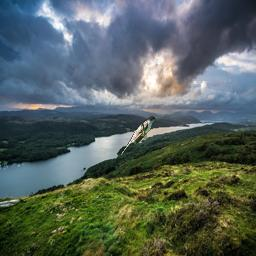Cuckoo: (120, 116, 157, 156)
